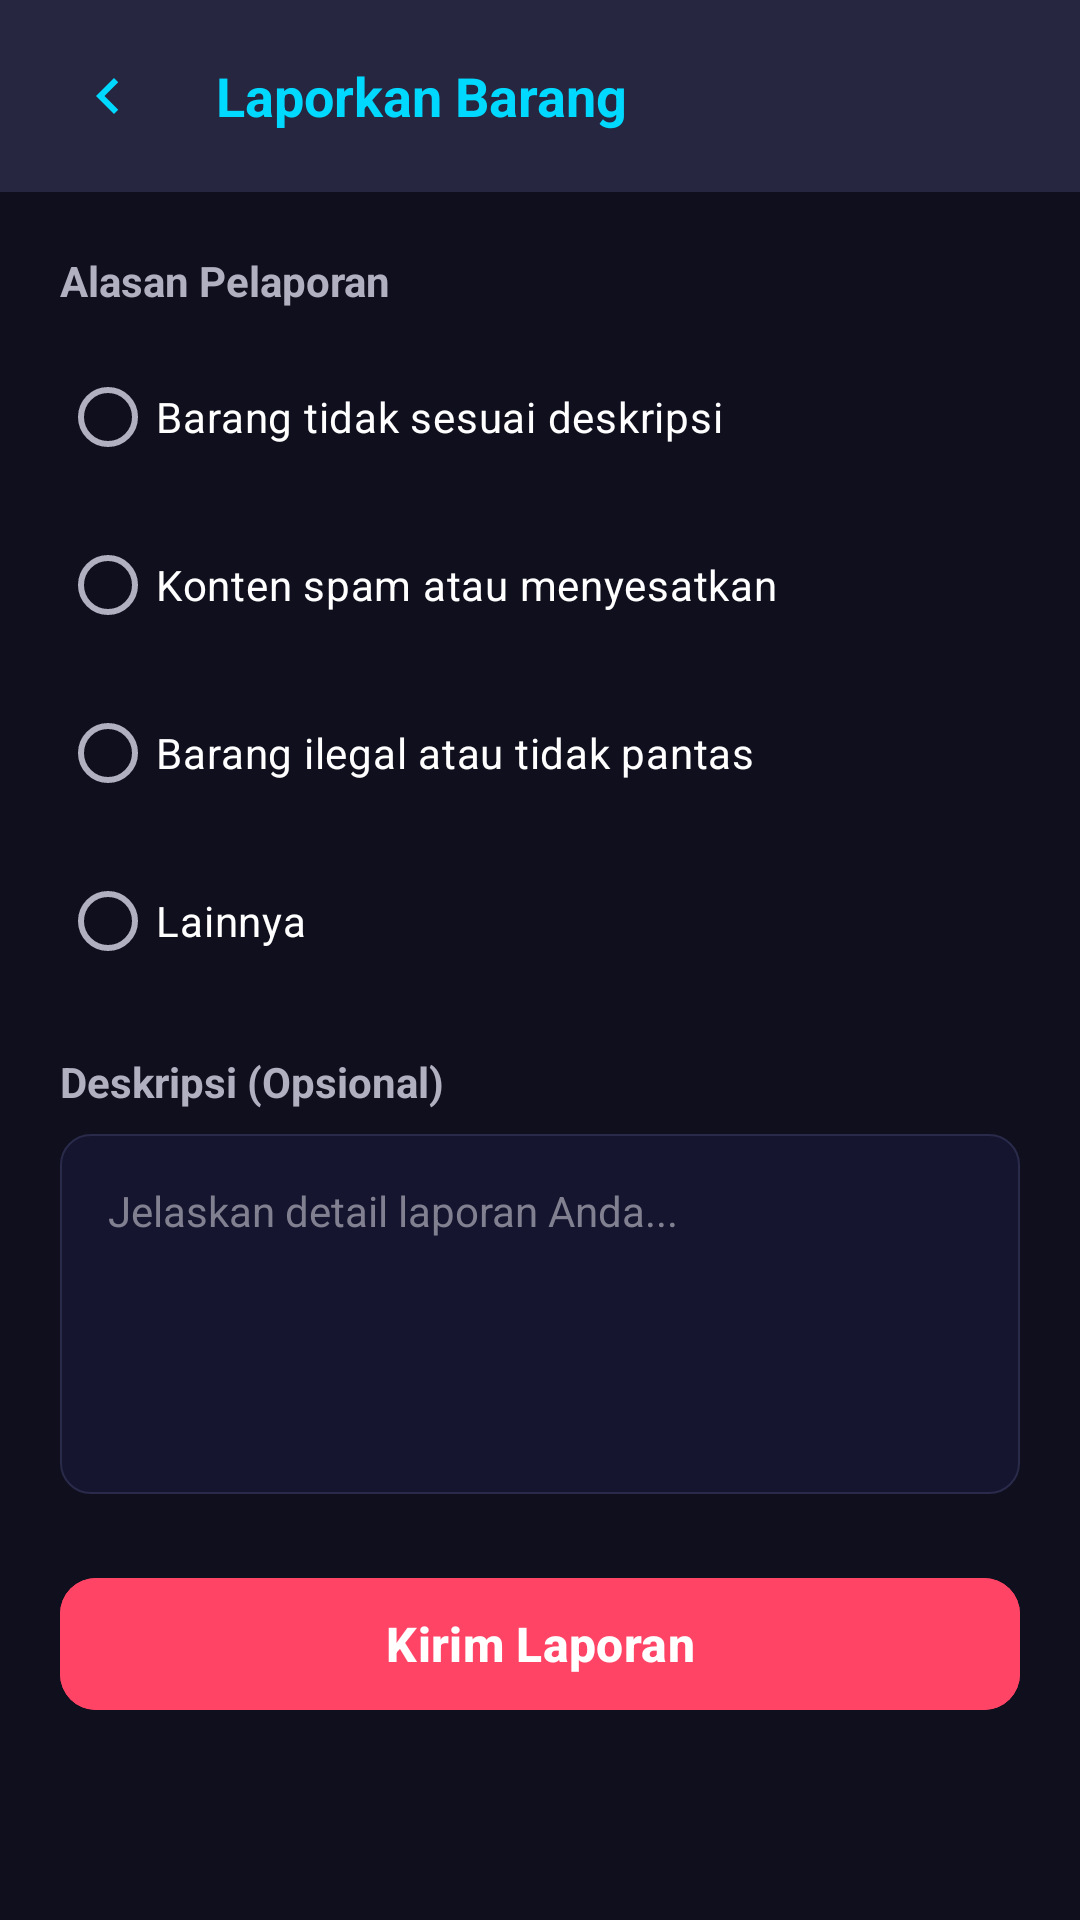

Icon click points for this 1080*1920 phone screenshot, format (x=x, y=y):
Kembali: (x=107, y=96)
